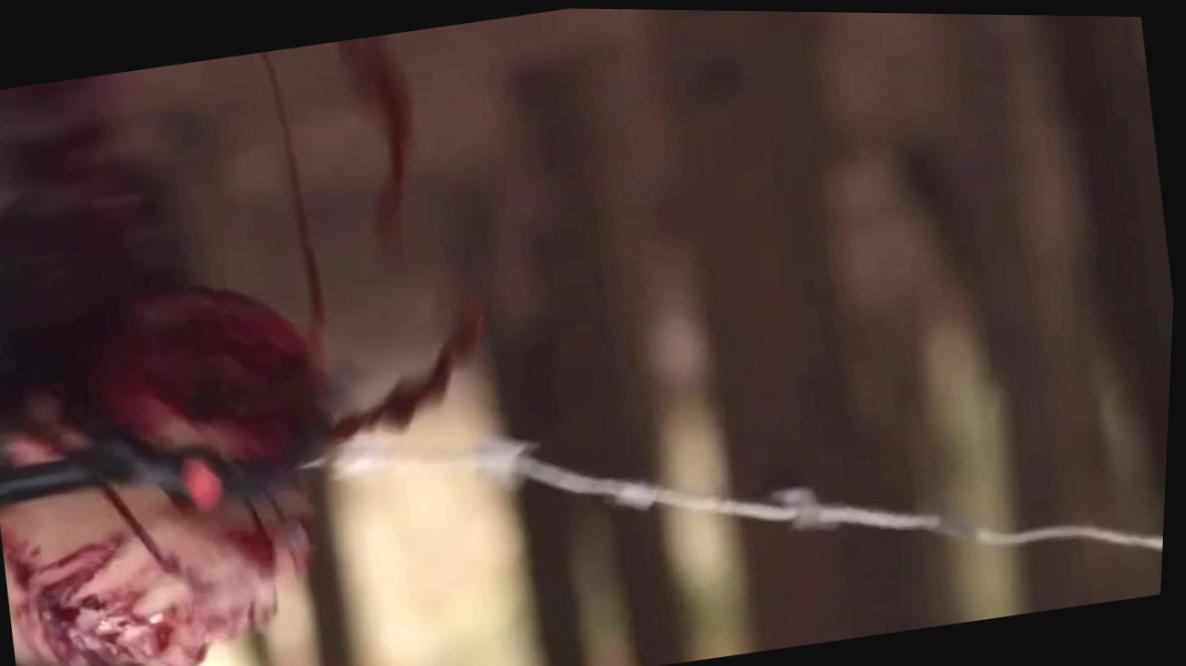Fire: (0, 50, 487, 666), (337, 34, 411, 256)
